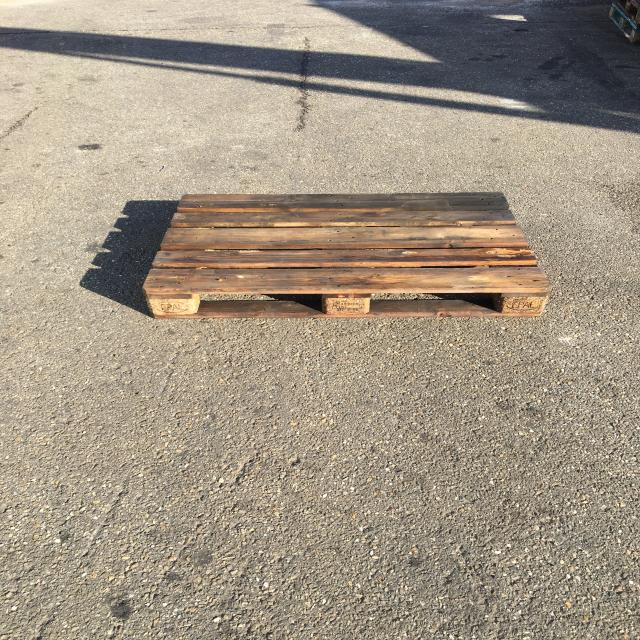block: (142, 288, 197, 320), (323, 291, 374, 319), (502, 293, 554, 317)
front: (134, 285, 552, 322)
